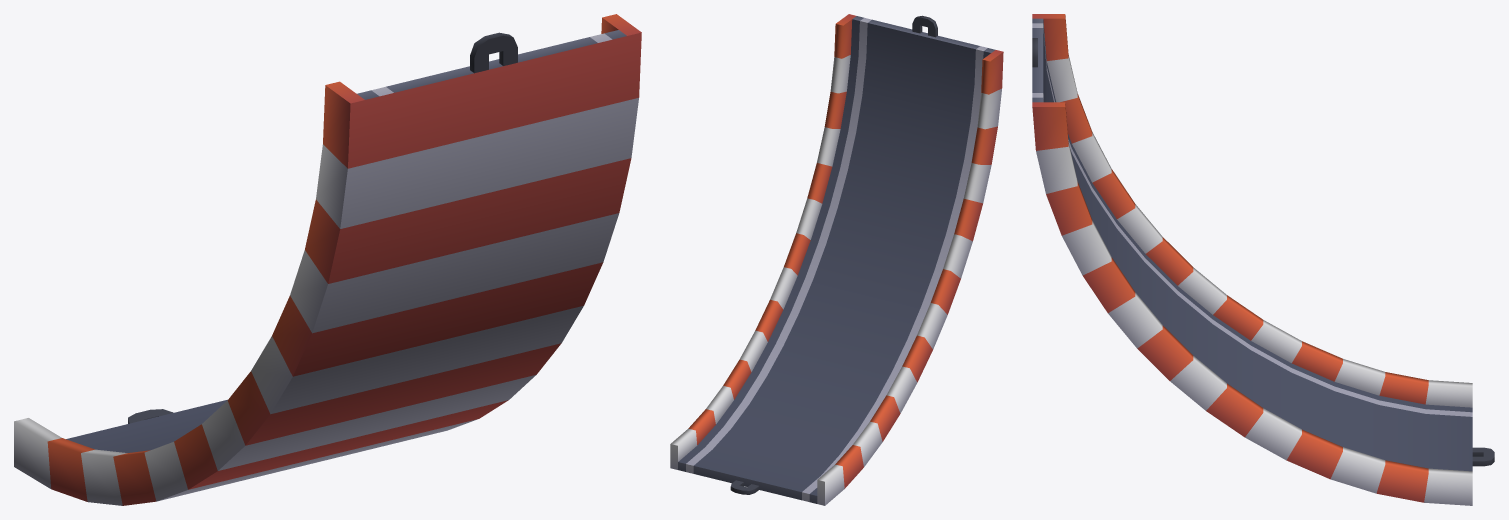
Rendered from track-road-wide-straight-bend-large.glb.
3 renders of one model, left to right at view 1: azimuth 30°, elevation 25°; view 2: azimuth 150°, elevation 25°; view 3: azimuth 270°, elevation 25°, orthographic. The views are drawn at different scales.
Parts seen in each view (by area): view 1: track-road-wide-straight-bend-large; view 2: track-road-wide-straight-bend-large; view 3: track-road-wide-straight-bend-large.
Part boxes in pixels (bbox=[...]): track-road-wide-straight-bend-large: bbox=[14, 14, 641, 505]; track-road-wide-straight-bend-large: bbox=[670, 14, 1003, 505]; track-road-wide-straight-bend-large: bbox=[1032, 14, 1494, 505].
Size of the model in its own units: 2 by 4.2 by 4.2.
